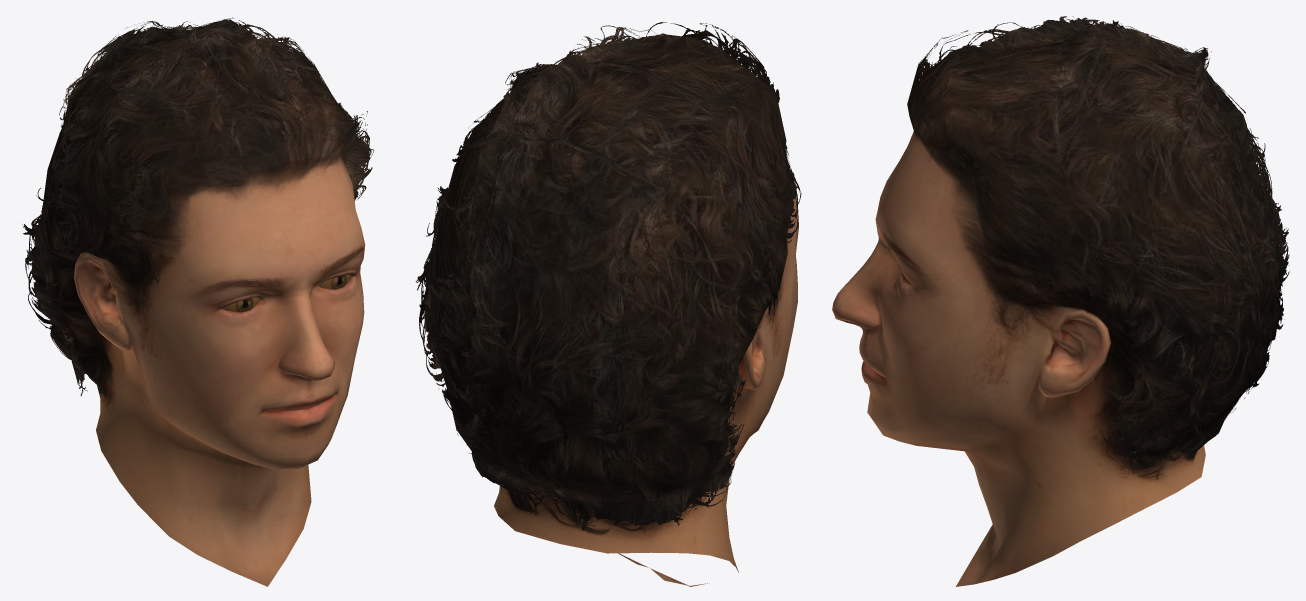
The model's file is rafael.glb.
3 views of the same model, side by side, from view 1: azimuth 30°, elevation 25°; view 2: azimuth 150°, elevation 25°; view 3: azimuth 270°, elevation 25° (orthographic). The views are drawn at different scales.
Parts seen in each view (by area): view 1: skin, hair, eyes; view 2: skin, hair; view 3: skin, hair.
Boxes of the visible parts, x1,y1,x2,y2 form: skin: (39, 36, 365, 586); hair: (22, 17, 374, 396); eyes: (222, 274, 350, 312); skin: (430, 34, 798, 586); hair: (415, 22, 801, 530); skin: (832, 38, 1276, 586); hair: (907, 16, 1289, 458).
Bounding box in the file's own units: 0.2069 × 0.3346 × 0.2501.
3 materials, 3 textured.
